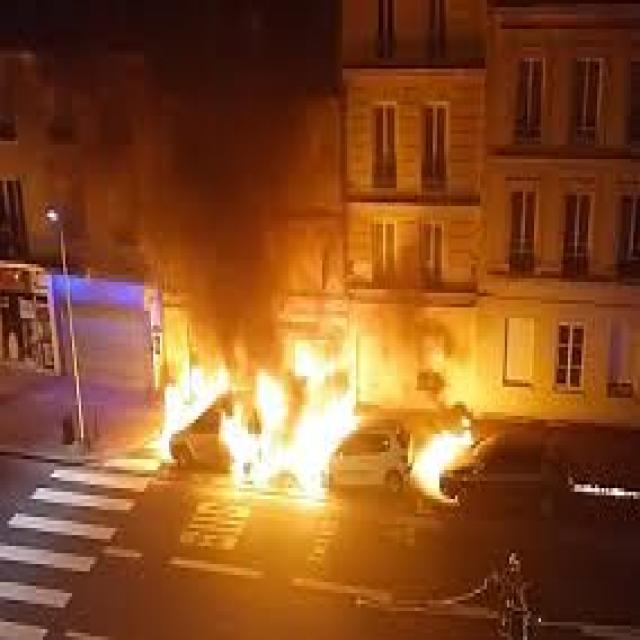Fire: (146, 319, 506, 529)
Smoke: (68, 0, 337, 298)
